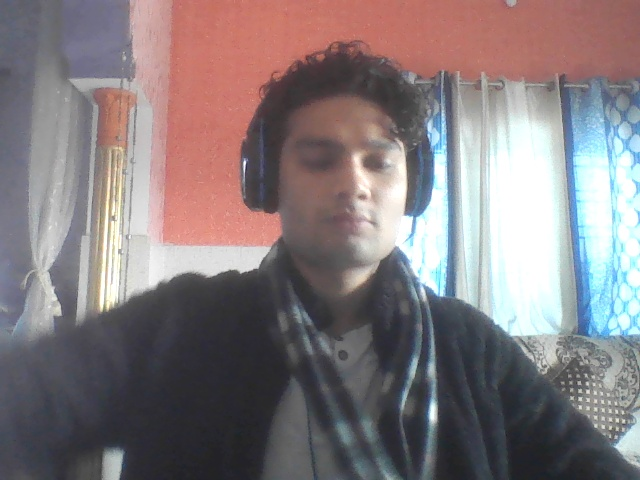real: (254, 42, 424, 283)
